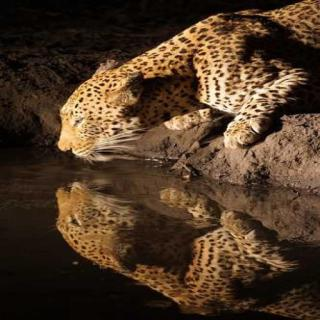Leopard: (51, 8, 316, 184)
